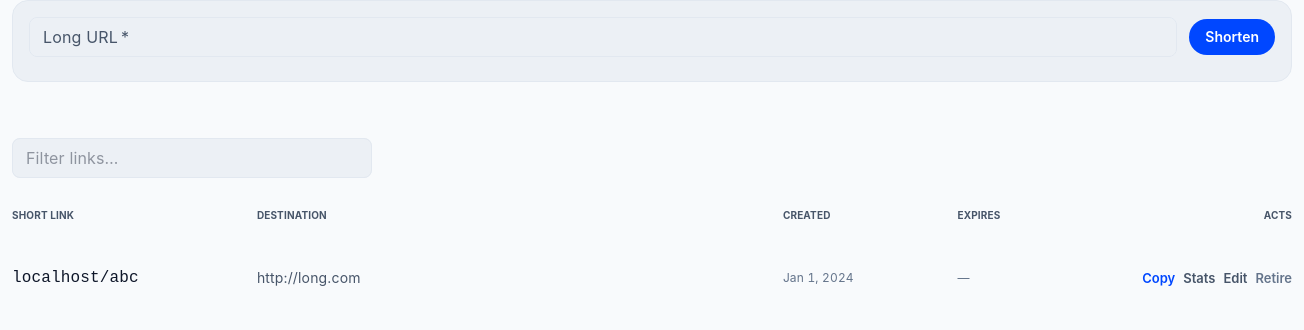
DashboardPage › in-row destination correction › cancel closes the correction leaving the row as it stood
Expected: the element with test id "link-row-abc" is shown, [12,265,1292,291]
Step 1. Click the button with test id "edit-abc" → coordinates (1236, 278), box [1224,265,1248,291]
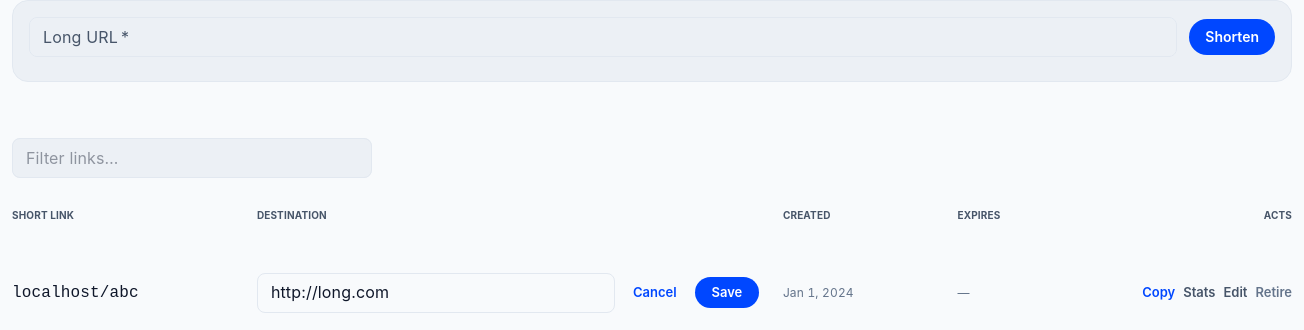
Step 2. Click the button with test id "edit-cancel-abc" → coordinates (655, 293), box [623,277,687,308]
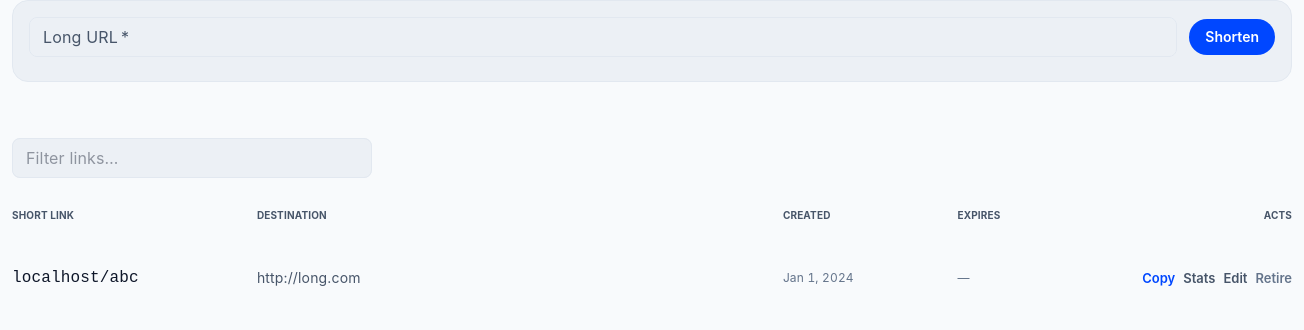
Result: the field with test id "edit-url-input-abc" is gone
Result: the element with test id "link-row-abc" shows "http://long.com" at [257,270,361,286]
